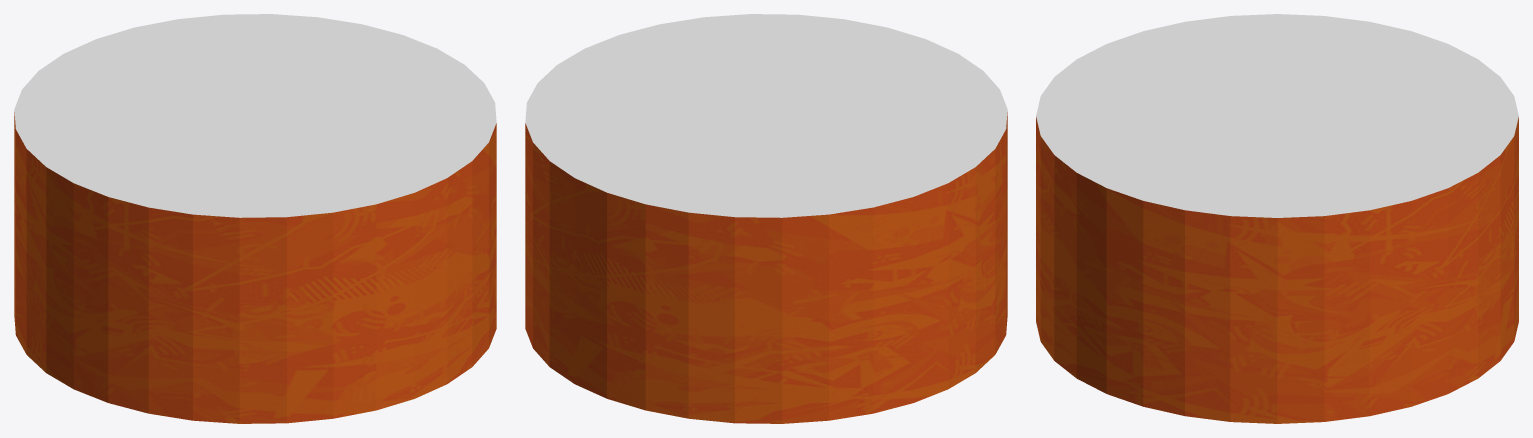
Rendered from CirculoTomarPizza.fbx.
3 views of the same model, side by side, from view 1: azimuth 30°, elevation 25°; view 2: azimuth 150°, elevation 25°; view 3: azimuth 270°, elevation 25° (orthographic).
Parts seen in each view (by area): view 1: TomarPizza, TomarPizza.001; view 2: TomarPizza, TomarPizza.001; view 3: TomarPizza, TomarPizza.001.
Part boxes in pixels (x1,y1,x2,y2): TomarPizza: [14, 14, 496, 423]; TomarPizza.001: [14, 14, 496, 423]; TomarPizza: [525, 14, 1007, 423]; TomarPizza.001: [525, 14, 1007, 423]; TomarPizza: [1036, 14, 1518, 423]; TomarPizza.001: [1036, 14, 1518, 423].
Bounding box in the file's own units: 425 × 200 × 425.
Materials: 4 (2 with a texture image).
